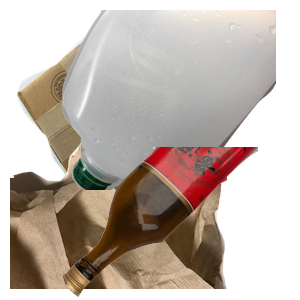cardboard: (14, 10, 222, 190)
glass: (60, 147, 300, 300)
plastic: (60, 10, 300, 190)
trash: (10, 120, 229, 300)
